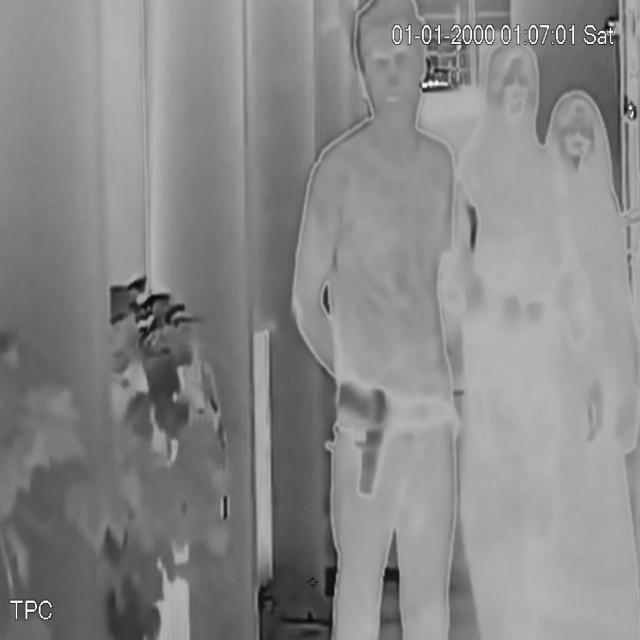Weapon: (326, 372, 388, 499)
